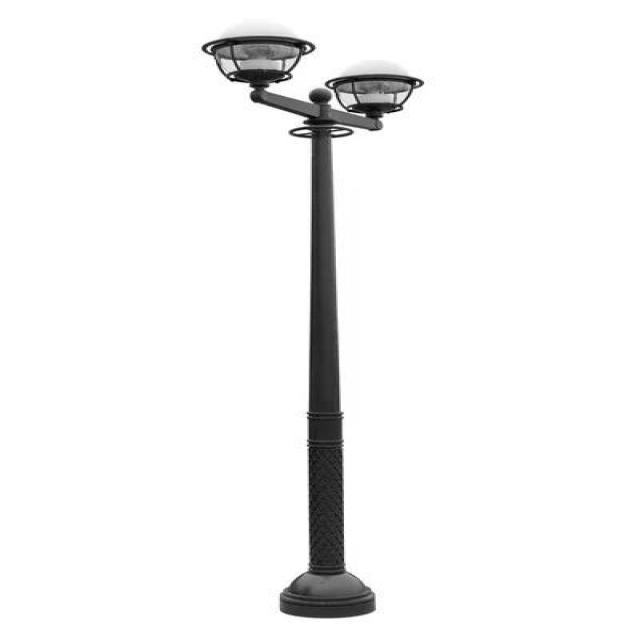Pole: (280, 120, 376, 619)
